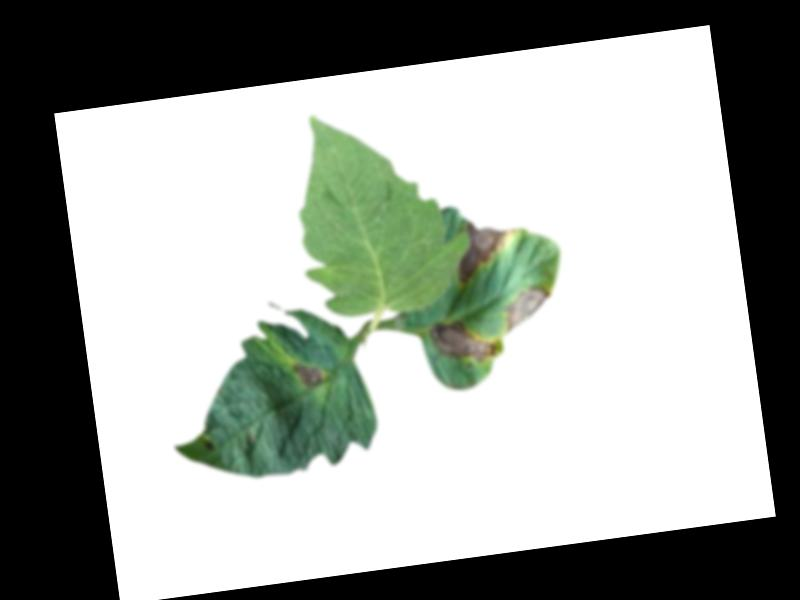Early_blight: (450, 215, 509, 284), (430, 313, 500, 366), (501, 284, 559, 335), (292, 356, 325, 390), (203, 437, 216, 452)
healthy: (282, 92, 479, 337)
